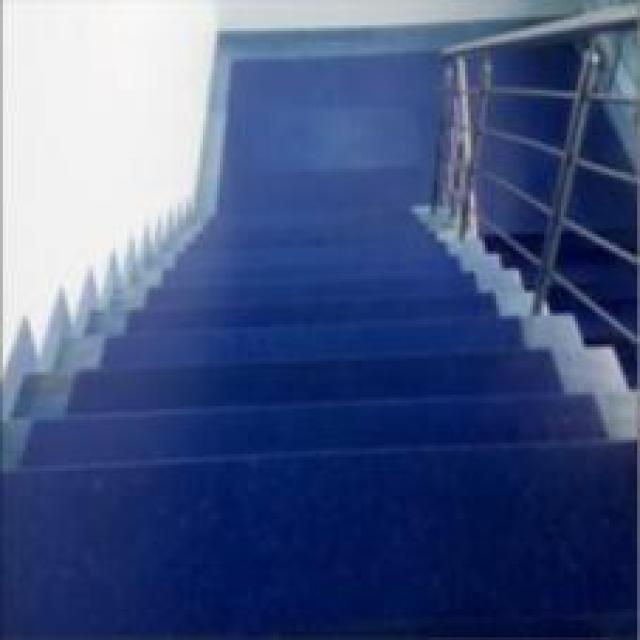downstair: (24, 351, 551, 540)
